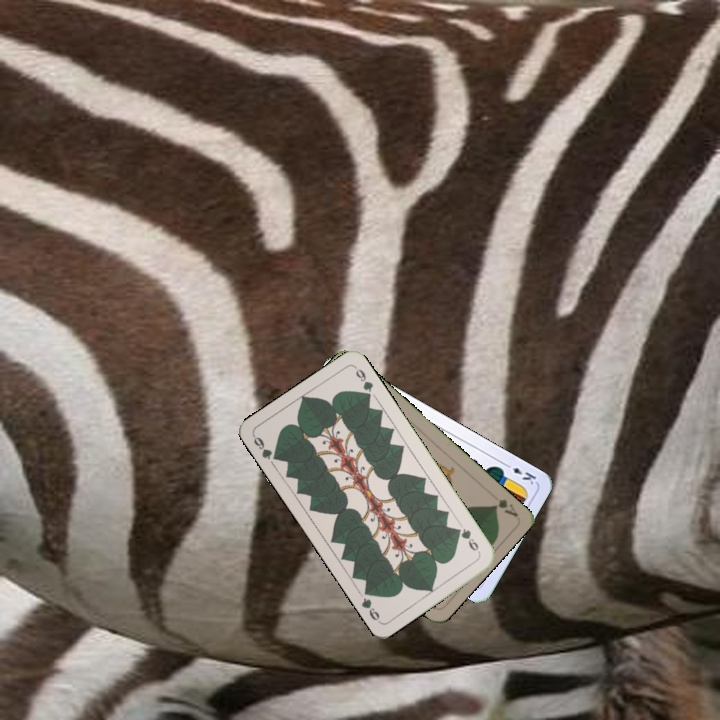EK: (500, 459, 539, 487)
G9: (249, 432, 283, 463), (452, 524, 483, 556)
GA: (490, 495, 520, 519)
